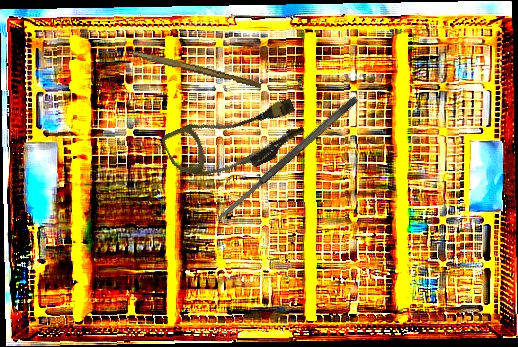Cannula: (160, 82, 310, 198)
Scalpel Handle: (130, 50, 263, 89)
Spatula Surgical: (213, 94, 360, 224)
